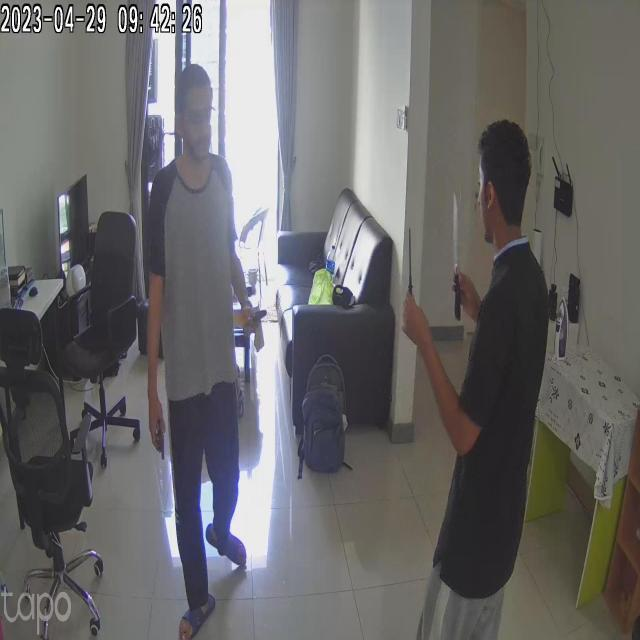Knife: (444, 183, 474, 322), (395, 215, 437, 308)
